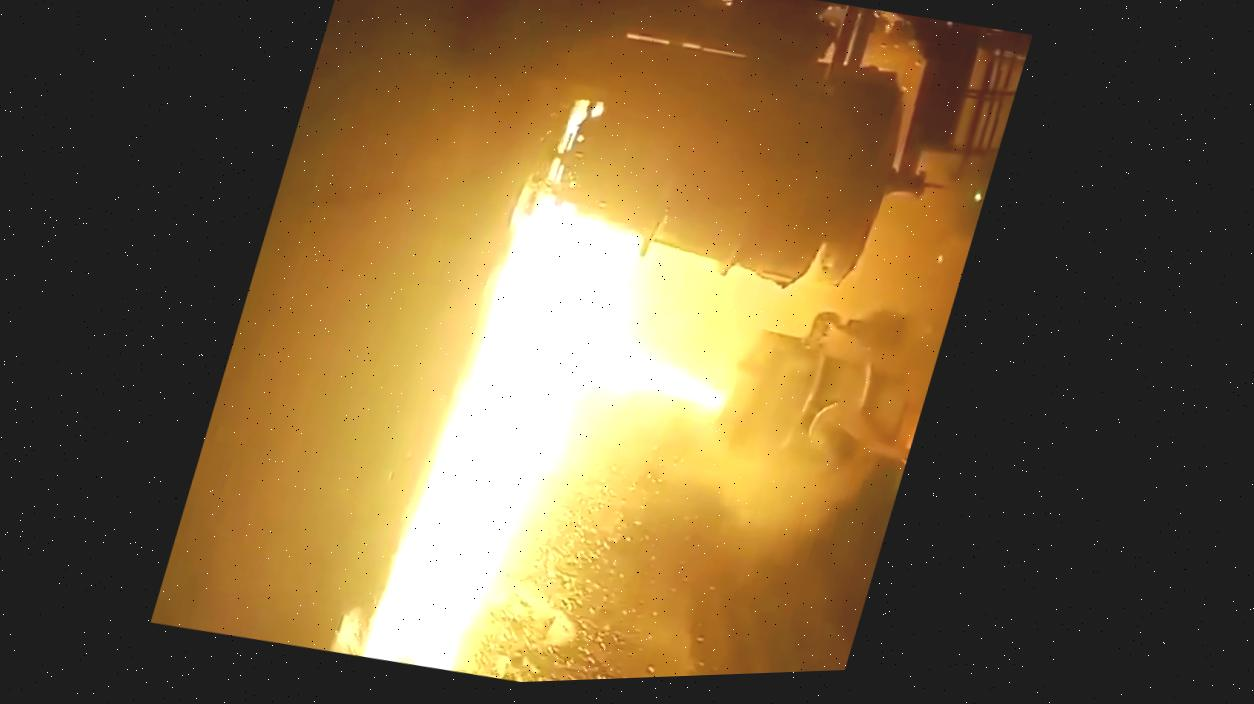fire: (269, 98, 902, 665)
